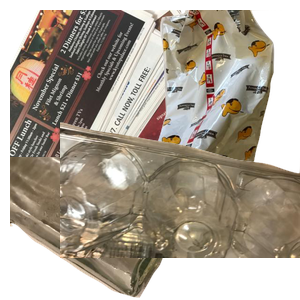glass: (10, 157, 190, 300)
paper: (10, 10, 250, 190)
plastic: (60, 120, 300, 300)
trash: (127, 10, 300, 190)
